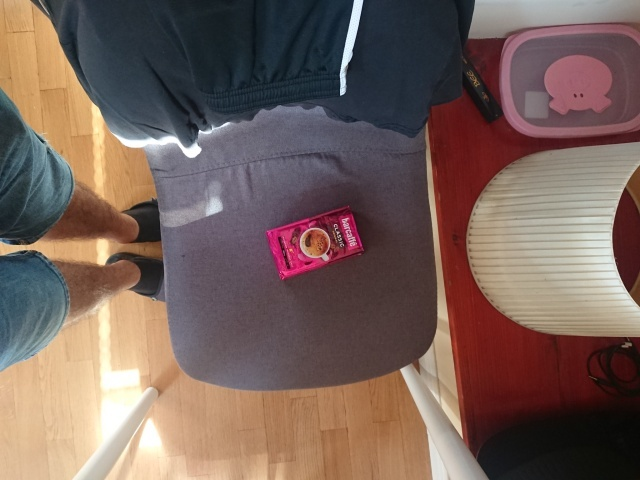Barcaffe Classic Original 225g: (264, 203, 366, 283)
